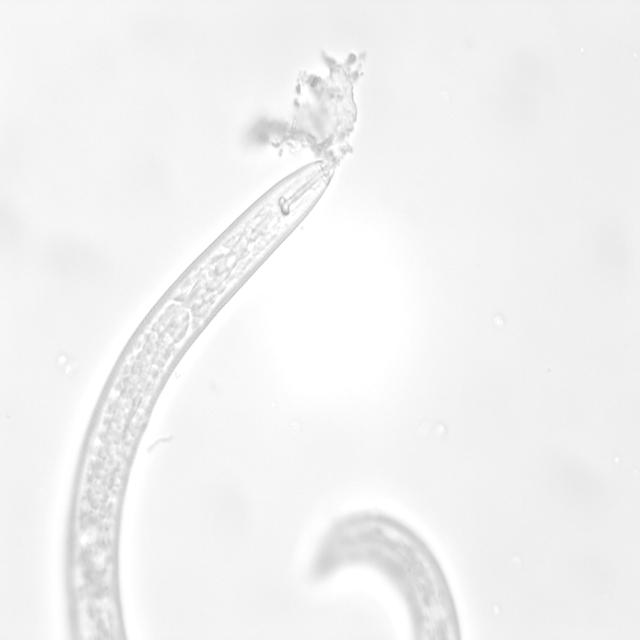Helicotylenchus: (59, 165, 482, 640)
